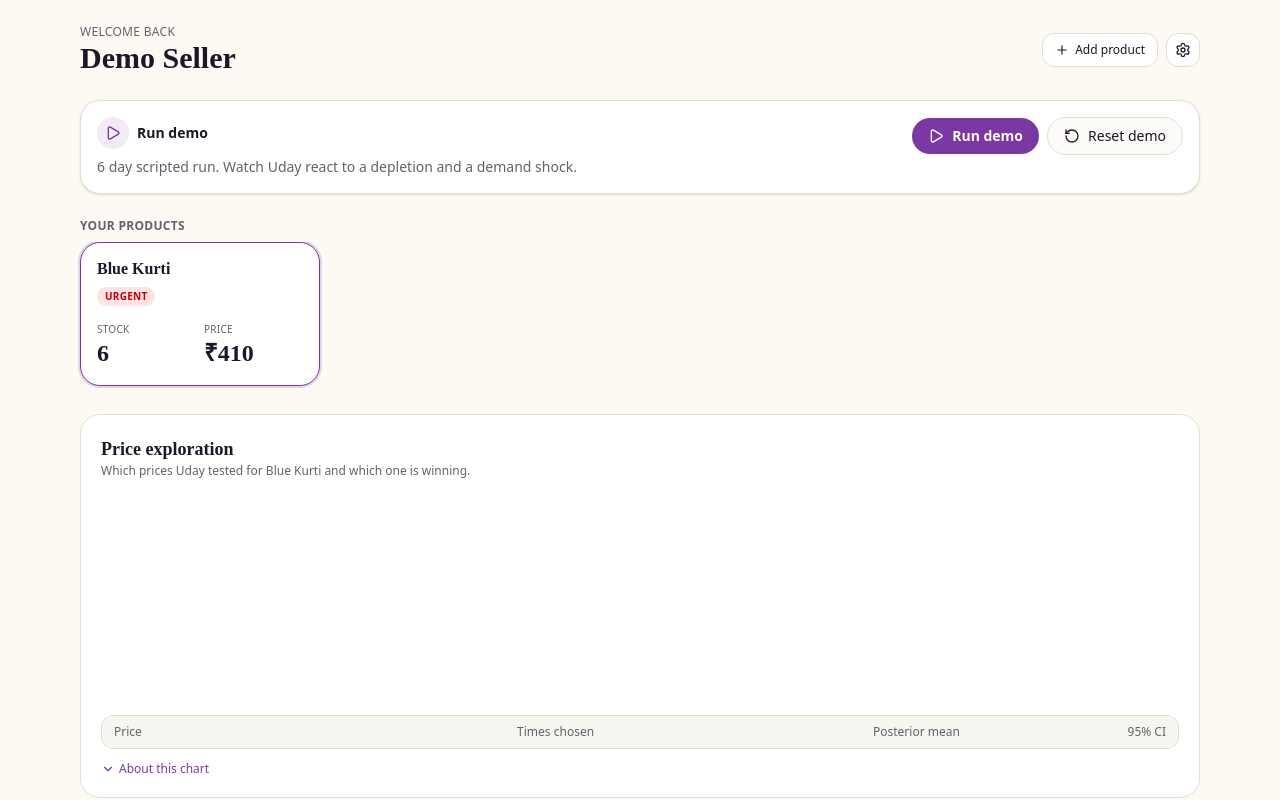
SellerPanel demo runner › test_run_demo_steps_through_days
Later steps or results of the test are not shown.
Expected: the heading "Demo Seller" is shown, [80,40,236,76]
Step 1. Click the button "Run demo" → (976, 136), box [912,118,1039,154]
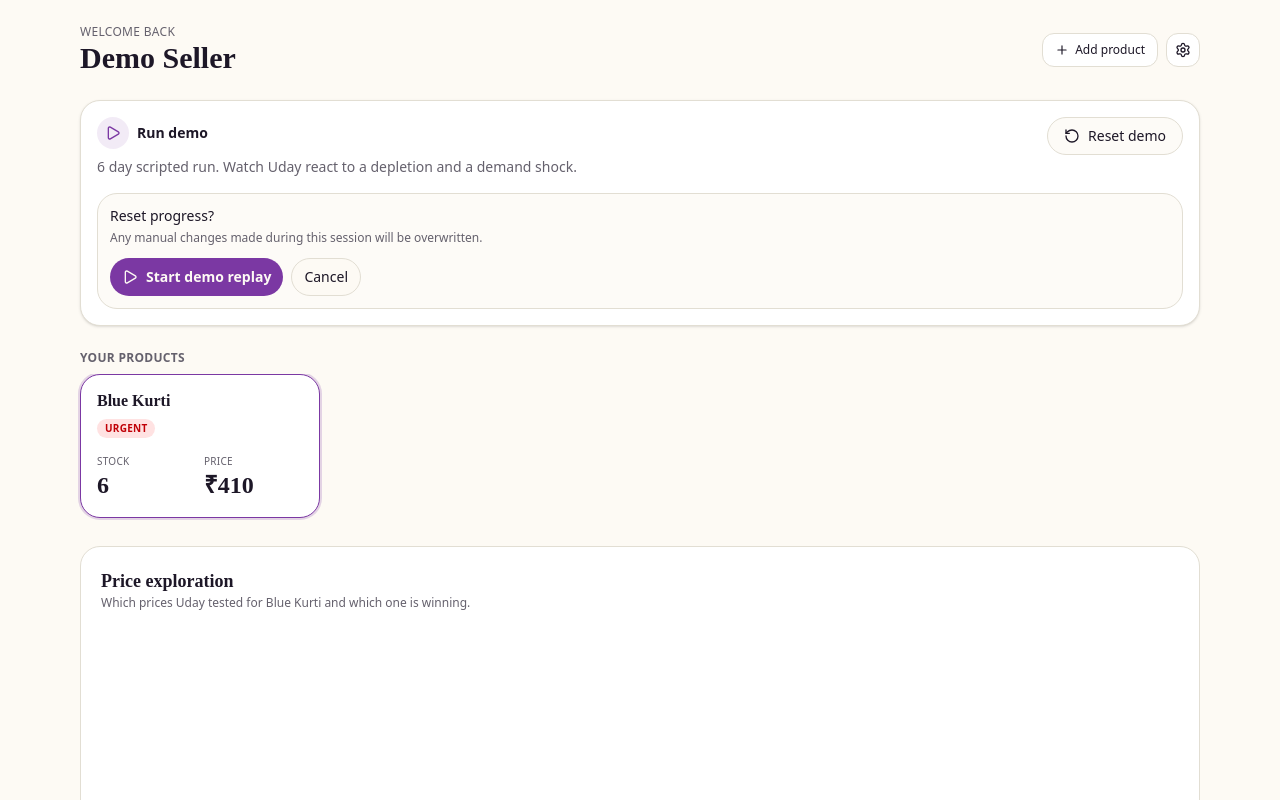
Expected: the button "Start demo replay" is shown, [110,258,283,296]
